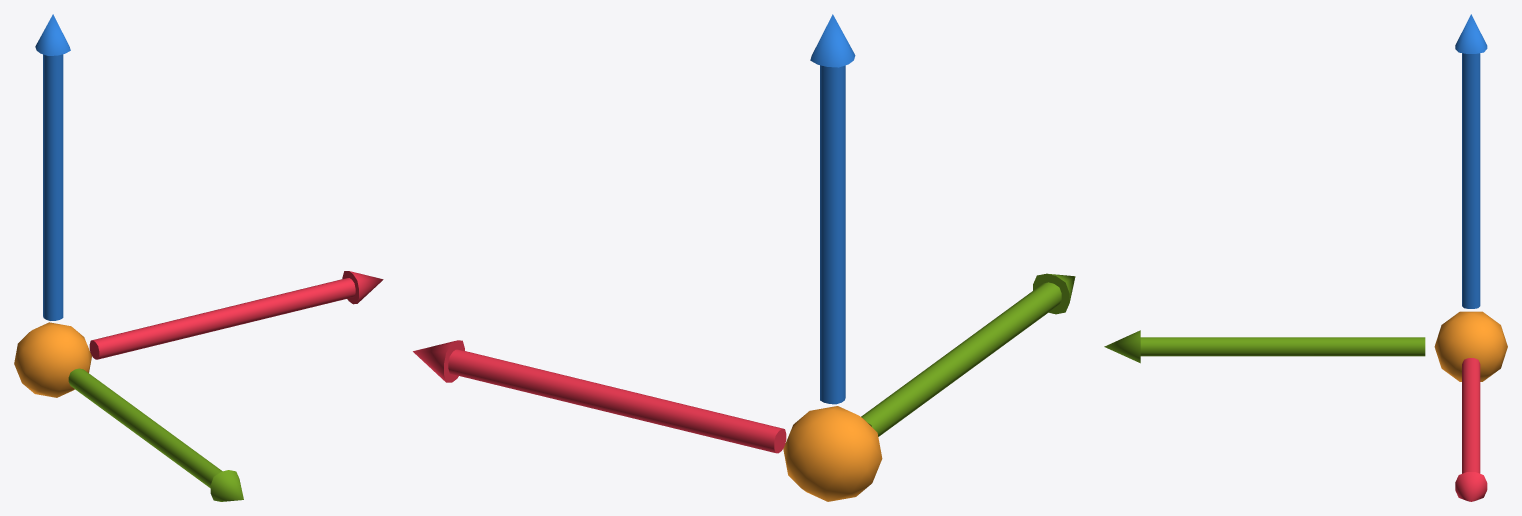
Rendered from xyz.glb.
3 renders of one model, left to right at view 1: azimuth 30°, elevation 25°; view 2: azimuth 150°, elevation 25°; view 3: azimuth 270°, elevation 25°, orthographic. The views are drawn at different scales.
Visible parts, largest first — view 1: Z, X, Y, Point; view 2: Z, X, Point, Y; view 3: Y, Z, Point, X.
Part boxes in pixels (<box>): Z: <box>35,14,70,320</box>; X: <box>89,271,383,359</box>; Y: <box>68,368,243,501</box>; Point: <box>14,322,91,397</box>; Z: <box>810,14,855,404</box>; X: <box>413,340,786,453</box>; Point: <box>783,406,882,501</box>; Y: <box>861,273,1075,436</box>; Y: <box>1104,330,1425,363</box>; Z: <box>1455,14,1487,308</box>; Point: <box>1434,311,1507,381</box>; X: <box>1455,358,1487,501</box>.
Bounding box in the file's own units: 1.1 × 1.1 × 1.1.
1 material, 1 textured.
